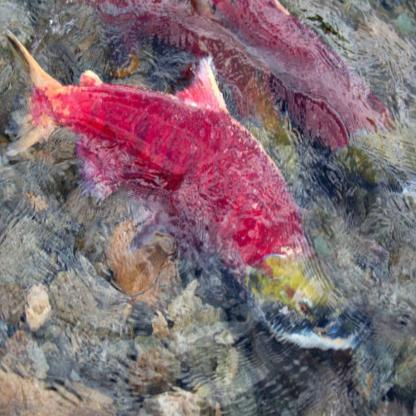sockeye: (0, 57, 350, 338), (142, 0, 386, 184)
